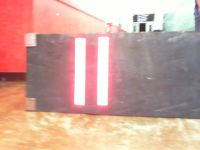switch: (96, 36, 108, 106), (74, 37, 86, 105)
